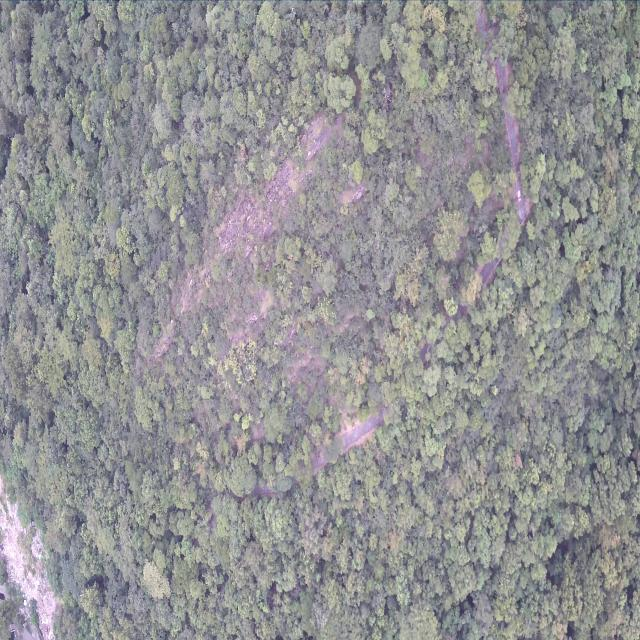drone: (290, 7, 295, 13)
